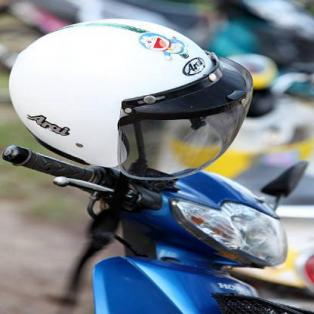Motocicleta: (0, 128, 313, 314)
